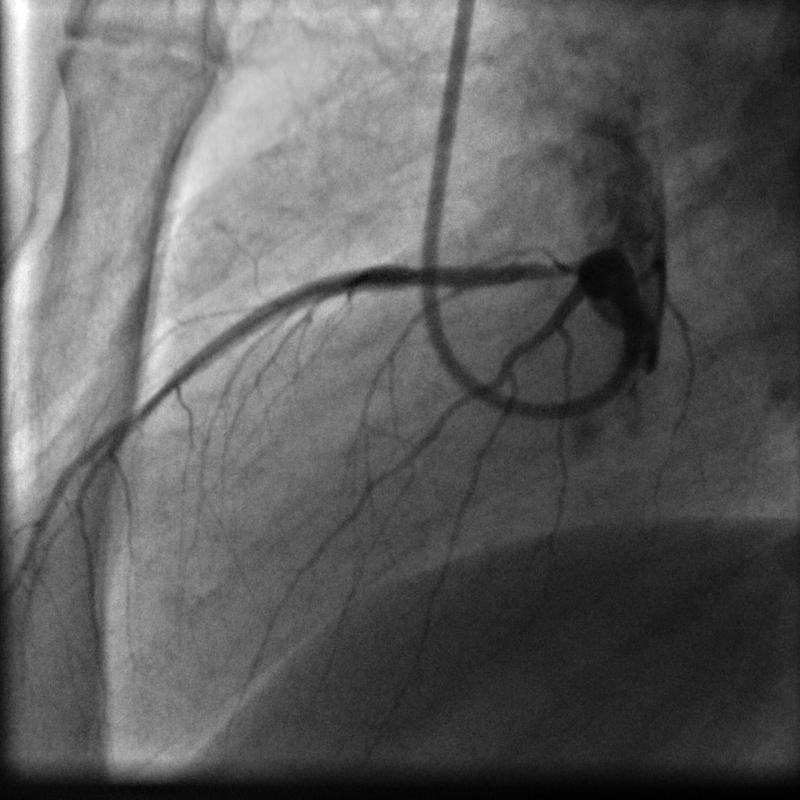Stenosis: (400, 259, 416, 299)
